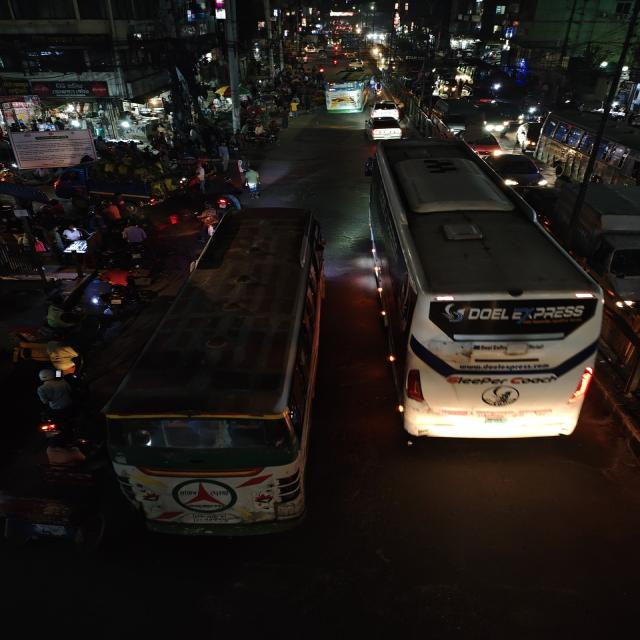bus: (102, 201, 325, 545), (368, 142, 599, 448), (539, 109, 640, 192), (322, 71, 372, 117), (436, 99, 482, 132)
car: (487, 150, 551, 192), (459, 130, 505, 157), (363, 114, 405, 140), (369, 99, 402, 119)
motorcycle: (32, 369, 82, 443), (92, 263, 142, 313)
pedestrian: (119, 222, 149, 253), (242, 167, 263, 197), (215, 141, 233, 171)
rickshaw: (6, 306, 104, 381), (4, 483, 102, 551)
truck: (569, 183, 640, 303)
